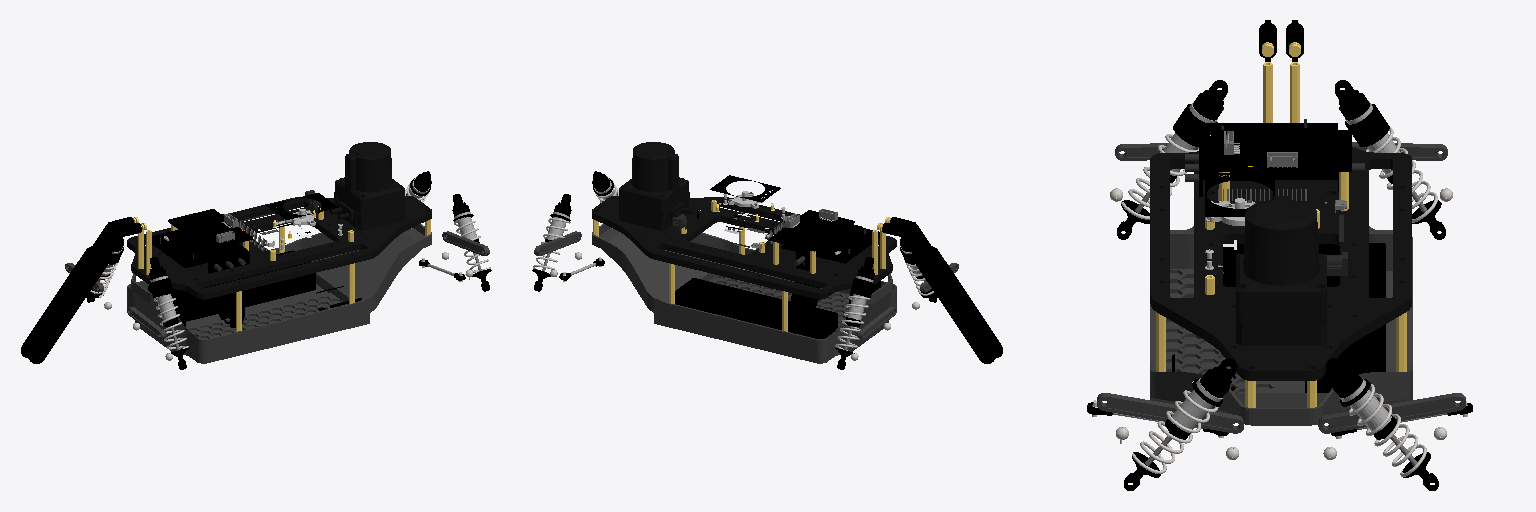
The robot description file, URDF, robot "autodrive_roboracer":
<?xml version="1.0"?>
<!--
  RViz-only AutoDRIVE RoboRacer description, drawn from AutoDRIVE's own model
  (meshes/autodrive_roboracer/, imported by scripts/import_autodrive_meshes.py;
  provenance and BSD-2 licence in meshes/NOTICE.md). Selected by the vehicle
  through urdf/descriptions.yaml. Every joint is fixed; no node publishes
  joint states. No Gazebo, sensor, plugin or actuator-coupling elements.

  Numbers (AutoDRIVE, config/vehicles/autodrive_roboracer/source.yaml):
  base_link is the CoG, lr = 0.15532 ahead of the rear axle at h = 0.07354.
  rear_axle is its fixed child at (-lr, 0, -h): the ground point under the
  rear-axle midpoint, where every mesh is authored. The axle centre is
  0.0592 m above it (h minus the CoG's 0.01434 m above the axle). The lidar
  is 0.2733 m ahead of and 0.096 m above the axle centre (0.1552 above the
  ground point). The front axle sits 0.010 m higher than the rear one (the
  prefab); the wheels are static, with the front wheels straight.
-->
<robot name="autodrive_roboracer">
  <material name="ad_000000">
    <color rgba="0.0000 0.0000 0.0000 1.0"/>
  </material>
  <material name="ad_1a1a1a">
    <color rgba="0.1020 0.1020 0.1020 1.0"/>
  </material>
  <material name="ad_1b1b1b">
    <color rgba="0.1059 0.1059 0.1059 1.0"/>
  </material>
  <material name="ad_333333">
    <color rgba="0.2000 0.2000 0.2000 1.0"/>
  </material>
  <material name="ad_3b3b3b">
    <color rgba="0.2314 0.2314 0.2314 1.0"/>
  </material>
  <material name="ad_4b4b4b">
    <color rgba="0.2941 0.2941 0.2941 1.0"/>
  </material>
  <material name="ad_555555">
    <color rgba="0.3333 0.3333 0.3333 1.0"/>
  </material>
  <material name="ad_636363">
    <color rgba="0.3882 0.3882 0.3882 1.0"/>
  </material>
  <material name="ad_7d7d7d">
    <color rgba="0.4902 0.4902 0.4902 1.0"/>
  </material>
  <material name="ad_afafaf">
    <color rgba="0.6863 0.6863 0.6863 1.0"/>
  </material>
  <material name="ad_c5c5c5">
    <color rgba="0.7725 0.7725 0.7725 1.0"/>
  </material>
  <material name="ad_c8c8c8">
    <color rgba="0.7843 0.7843 0.7843 1.0"/>
  </material>
  <material name="ad_d2cec9">
    <color rgba="0.8235 0.8078 0.7882 1.0"/>
  </material>
  <material name="ad_fae37e">
    <color rgba="0.9804 0.8902 0.4941 1.0"/>
  </material>
  <material name="ad_ffba00">
    <color rgba="1.0000 0.7294 0.0000 1.0"/>
  </material>
  <material name="ad_ffdd75">
    <color rgba="1.0000 0.8667 0.4588 1.0"/>
  </material>
  <material name="ad_ffffff">
    <color rgba="1.0000 1.0000 1.0000 1.0"/>
  </material>

  <link name="base_link"/>

  <link name="rear_axle">
    <visual>
      <geometry>
        <mesh filename="package://racing_vehicle_description/meshes/autodrive_roboracer/chassis_000000.stl"/>
      </geometry>
      <material name="ad_000000"/>
    </visual>
    <visual>
      <geometry>
        <mesh filename="package://racing_vehicle_description/meshes/autodrive_roboracer/chassis_1a1a1a.stl"/>
      </geometry>
      <material name="ad_1a1a1a"/>
    </visual>
    <visual>
      <geometry>
        <mesh filename="package://racing_vehicle_description/meshes/autodrive_roboracer/chassis_1b1b1b.stl"/>
      </geometry>
      <material name="ad_1b1b1b"/>
    </visual>
    <visual>
      <geometry>
        <mesh filename="package://racing_vehicle_description/meshes/autodrive_roboracer/chassis_333333.stl"/>
      </geometry>
      <material name="ad_333333"/>
    </visual>
    <visual>
      <geometry>
        <mesh filename="package://racing_vehicle_description/meshes/autodrive_roboracer/chassis_3b3b3b.stl"/>
      </geometry>
      <material name="ad_3b3b3b"/>
    </visual>
    <visual>
      <geometry>
        <mesh filename="package://racing_vehicle_description/meshes/autodrive_roboracer/chassis_4b4b4b.stl"/>
      </geometry>
      <material name="ad_4b4b4b"/>
    </visual>
    <visual>
      <geometry>
        <mesh filename="package://racing_vehicle_description/meshes/autodrive_roboracer/chassis_555555.stl"/>
      </geometry>
      <material name="ad_555555"/>
    </visual>
    <visual>
      <geometry>
        <mesh filename="package://racing_vehicle_description/meshes/autodrive_roboracer/chassis_636363.stl"/>
      </geometry>
      <material name="ad_636363"/>
    </visual>
    <visual>
      <geometry>
        <mesh filename="package://racing_vehicle_description/meshes/autodrive_roboracer/chassis_7d7d7d.stl"/>
      </geometry>
      <material name="ad_7d7d7d"/>
    </visual>
    <visual>
      <geometry>
        <mesh filename="package://racing_vehicle_description/meshes/autodrive_roboracer/chassis_afafaf.stl"/>
      </geometry>
      <material name="ad_afafaf"/>
    </visual>
    <visual>
      <geometry>
        <mesh filename="package://racing_vehicle_description/meshes/autodrive_roboracer/chassis_c5c5c5.stl"/>
      </geometry>
      <material name="ad_c5c5c5"/>
    </visual>
    <visual>
      <geometry>
        <mesh filename="package://racing_vehicle_description/meshes/autodrive_roboracer/chassis_c8c8c8.stl"/>
      </geometry>
      <material name="ad_c8c8c8"/>
    </visual>
    <visual>
      <geometry>
        <mesh filename="package://racing_vehicle_description/meshes/autodrive_roboracer/chassis_d2cec9.stl"/>
      </geometry>
      <material name="ad_d2cec9"/>
    </visual>
    <visual>
      <geometry>
        <mesh filename="package://racing_vehicle_description/meshes/autodrive_roboracer/chassis_fae37e.stl"/>
      </geometry>
      <material name="ad_fae37e"/>
    </visual>
    <visual>
      <geometry>
        <mesh filename="package://racing_vehicle_description/meshes/autodrive_roboracer/chassis_ffba00.stl"/>
      </geometry>
      <material name="ad_ffba00"/>
    </visual>
    <visual>
      <geometry>
        <mesh filename="package://racing_vehicle_description/meshes/autodrive_roboracer/chassis_ffdd75.stl"/>
      </geometry>
      <material name="ad_ffdd75"/>
    </visual>
    <visual>
      <geometry>
        <mesh filename="package://racing_vehicle_description/meshes/autodrive_roboracer/chassis_ffffff.stl"/>
      </geometry>
      <material name="ad_ffffff"/>
    </visual>
  </link>
  <joint name="base_link_to_rear_axle" type="fixed">
    <parent link="base_link"/>
    <child link="rear_axle"/>
    <origin xyz="-0.15532 0 -0.07354" rpy="0 0 0"/>
  </joint>

  <link name="lidar">
    <visual>
      <geometry>
        <mesh filename="package://racing_vehicle_description/meshes/autodrive_roboracer/lidar.stl"/>
      </geometry>
      <material name="ad_1a1a1a"/>
    </visual>
  </link>
  <joint name="rear_axle_to_lidar" type="fixed">
    <parent link="rear_axle"/>
    <child link="lidar"/>
    <origin xyz="0.2733 0 0.1552" rpy="0 0 0"/>
  </joint>

  <link name="left_rear_wheel">
    <visual>
      <geometry>
        <mesh filename="package://racing_vehicle_description/meshes/autodrive_roboracer/wheel_rl.stl"/>
      </geometry>
      <material name="ad_1b1b1b"/>
    </visual>
  </link>
  <joint name="rear_axle_to_left_rear_wheel" type="fixed">
    <parent link="rear_axle"/>
    <child link="left_rear_wheel"/>
    <origin xyz="0 0.118 0.0592" rpy="0 0 0"/>
  </joint>

  <link name="right_rear_wheel">
    <visual>
      <geometry>
        <mesh filename="package://racing_vehicle_description/meshes/autodrive_roboracer/wheel_rr.stl"/>
      </geometry>
      <material name="ad_1b1b1b"/>
    </visual>
  </link>
  <joint name="rear_axle_to_right_rear_wheel" type="fixed">
    <parent link="rear_axle"/>
    <child link="right_rear_wheel"/>
    <origin xyz="0 -0.118 0.0592" rpy="0 0 0"/>
  </joint>

  <link name="left_front_wheel">
    <visual>
      <geometry>
        <mesh filename="package://racing_vehicle_description/meshes/autodrive_roboracer/wheel_fl.stl"/>
      </geometry>
      <material name="ad_1b1b1b"/>
    </visual>
  </link>
  <joint name="rear_axle_to_left_front_wheel" type="fixed">
    <parent link="rear_axle"/>
    <child link="left_front_wheel"/>
    <origin xyz="0.33 0.118 0.0692" rpy="0 0 0"/>
  </joint>

  <link name="right_front_wheel">
    <visual>
      <geometry>
        <mesh filename="package://racing_vehicle_description/meshes/autodrive_roboracer/wheel_fr.stl"/>
      </geometry>
      <material name="ad_1b1b1b"/>
    </visual>
  </link>
  <joint name="rear_axle_to_right_front_wheel" type="fixed">
    <parent link="rear_axle"/>
    <child link="right_front_wheel"/>
    <origin xyz="0.33 -0.118 0.0692" rpy="0 0 0"/>
  </joint>

</robot>

--- What the picture shows (computed from the rendered views, not written in the file) ---
3 views of the same robot in one strip: view 1: azimuth 30°, elevation 25°; view 2: azimuth 150°, elevation 25°; view 3: azimuth 270°, elevation 25° (orthographic).
Robot: autodrive_roboracer — 7 links, 6 joints (6 fixed); root link base_link; default pose: every joint at zero.
Visible links, largest first — view 1: rear_axle, lidar; view 2: rear_axle, lidar; view 3: rear_axle, lidar.
Boxes of the visible links, <box> form: rear_axle: <box>21,171,491,369</box>; lidar: <box>330,142,404,230</box>; rear_axle: <box>532,171,1002,369</box>; lidar: <box>619,142,692,230</box>; rear_axle: <box>1087,20,1472,490</box>; lidar: <box>1236,196,1326,345</box>.
Bounding box of the posed robot: 0.4671 × 0.2141 × 0.1433 m (x, y, z).
17 mesh visuals loaded from 22 distinct referenced files (17 binary STL); not drawn: 5 (reference not matched to a file when rendering).
